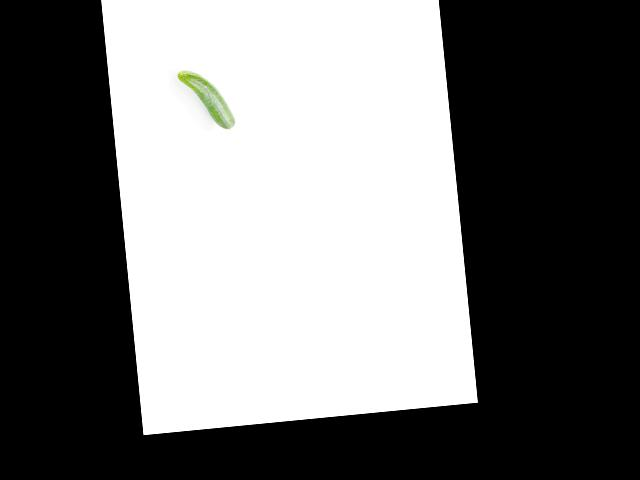cucumber: (176, 66, 235, 133)
